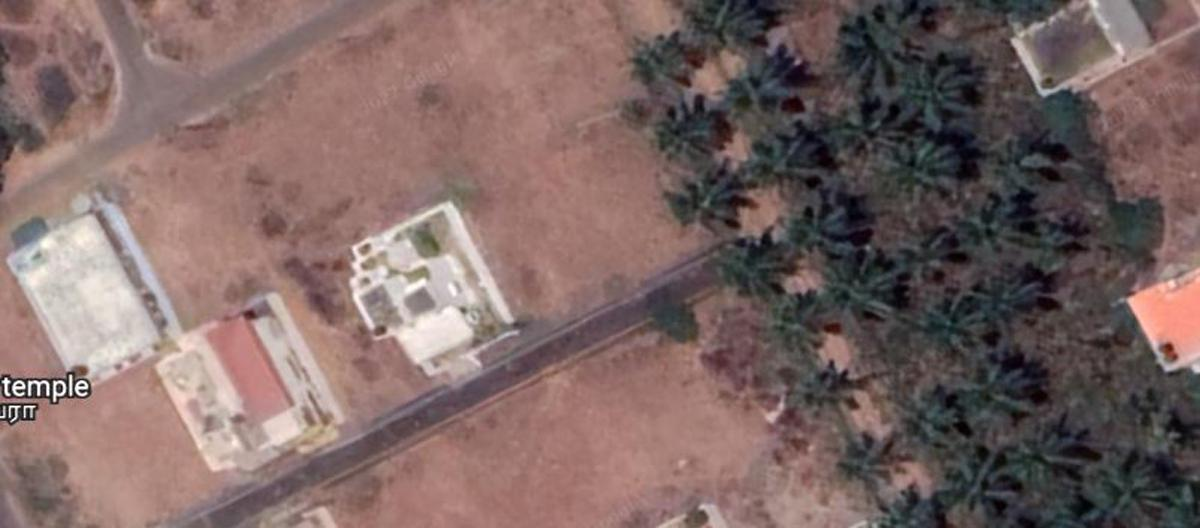coconut: (837, 5, 935, 92), (741, 111, 829, 196), (650, 165, 759, 225), (938, 451, 1026, 525), (1077, 453, 1171, 519), (776, 183, 868, 250), (720, 229, 792, 311), (905, 284, 991, 352), (722, 53, 822, 110), (958, 360, 1044, 423), (828, 249, 907, 317), (643, 96, 726, 159), (761, 284, 829, 359), (831, 432, 911, 495), (789, 353, 864, 420), (902, 61, 973, 129), (686, 2, 780, 53), (623, 34, 710, 89), (1013, 211, 1083, 275), (894, 223, 967, 283), (1014, 422, 1092, 478), (826, 108, 907, 161), (991, 140, 1059, 202), (900, 143, 973, 195), (900, 392, 967, 445), (976, 266, 1037, 323), (952, 208, 1022, 250)
